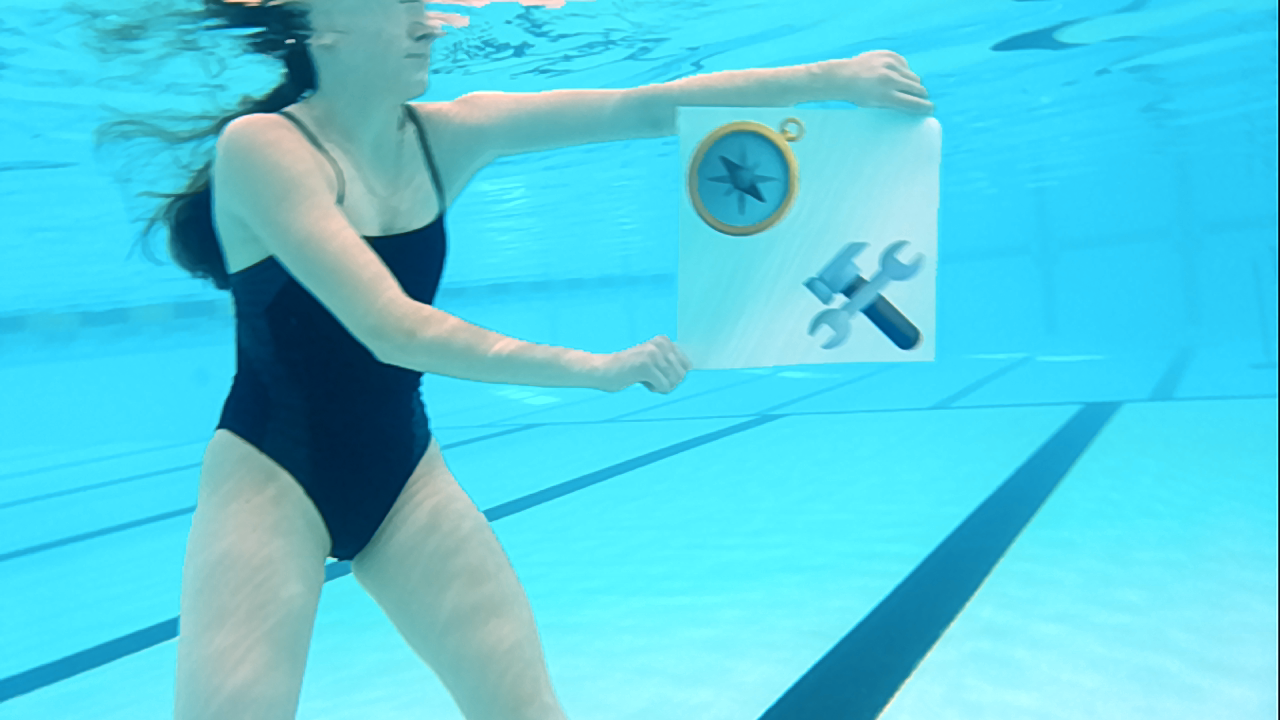compass_hammer: (683, 112, 930, 362)
